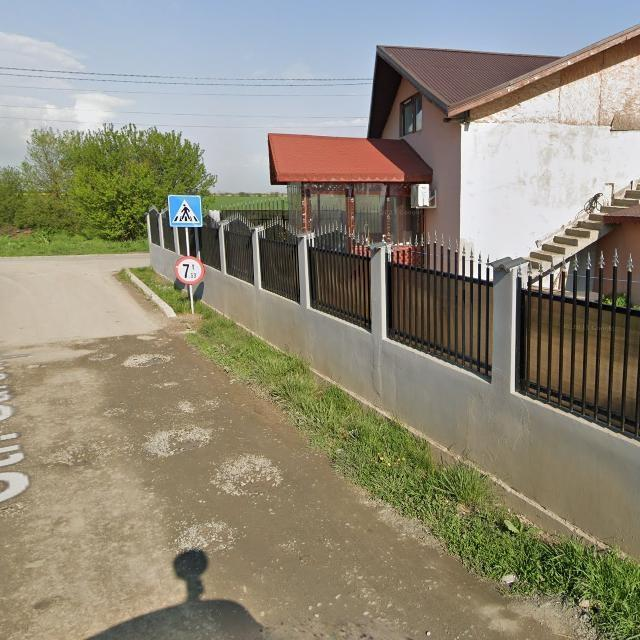info_crosswalk: (168, 194, 203, 227)
